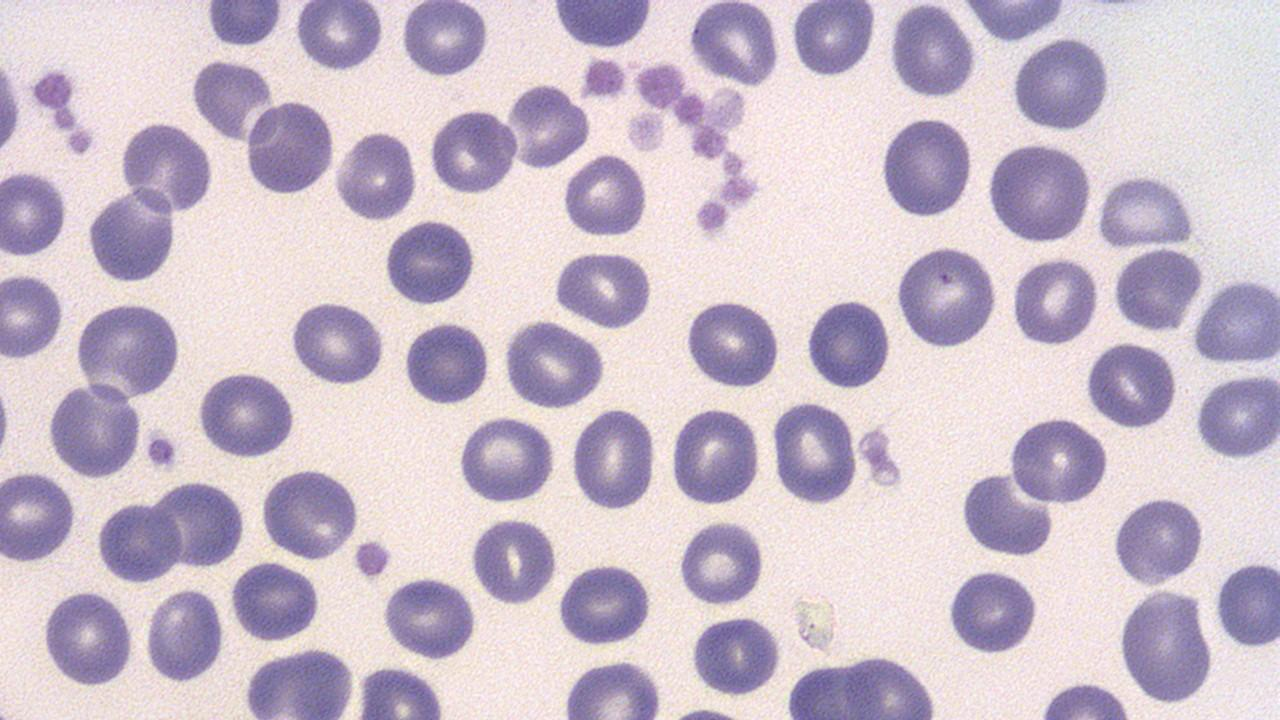Platelets: (854, 425, 900, 489), (579, 55, 629, 103), (28, 65, 77, 113), (352, 537, 394, 581), (144, 428, 180, 474), (864, 452, 904, 492), (718, 174, 760, 209), (693, 198, 730, 236), (63, 126, 96, 158), (49, 106, 77, 134)
RBC: (1116, 584, 1218, 705), (984, 138, 1094, 246), (893, 241, 1001, 351), (74, 299, 185, 403), (780, 652, 948, 718), (1008, 33, 1116, 134), (878, 112, 974, 221), (499, 318, 608, 410), (241, 96, 338, 199), (569, 402, 658, 514), (84, 184, 180, 286), (39, 586, 135, 688), (668, 402, 760, 508), (770, 398, 858, 508), (194, 367, 298, 460), (117, 117, 214, 216), (238, 640, 358, 720), (683, 296, 784, 391), (1007, 415, 1111, 507), (50, 382, 148, 478), (1109, 492, 1207, 588), (456, 414, 557, 507), (554, 560, 654, 652), (149, 477, 245, 572), (802, 294, 894, 392), (888, 1, 976, 103), (944, 564, 1039, 658), (1083, 336, 1179, 429), (956, 468, 1055, 558), (287, 297, 386, 387), (688, 608, 784, 700), (1008, 254, 1100, 350), (382, 217, 479, 307), (468, 512, 559, 607), (551, 247, 656, 329), (142, 584, 225, 684), (427, 107, 520, 196), (228, 560, 322, 648), (400, 319, 494, 407), (688, 0, 782, 88), (675, 516, 766, 606), (1190, 273, 1280, 364), (332, 128, 417, 223), (1094, 173, 1198, 250), (561, 149, 649, 240), (1192, 369, 1278, 462), (385, 576, 482, 658), (189, 55, 277, 145), (1110, 246, 1202, 331), (94, 497, 183, 584), (503, 84, 594, 169), (0, 467, 77, 566), (400, 0, 489, 79), (790, 1, 878, 79), (558, 656, 667, 716), (0, 166, 69, 260), (294, 1, 382, 73), (1215, 556, 1279, 652), (1, 269, 65, 361), (353, 663, 448, 717), (553, 4, 651, 53), (0, 47, 25, 165)
